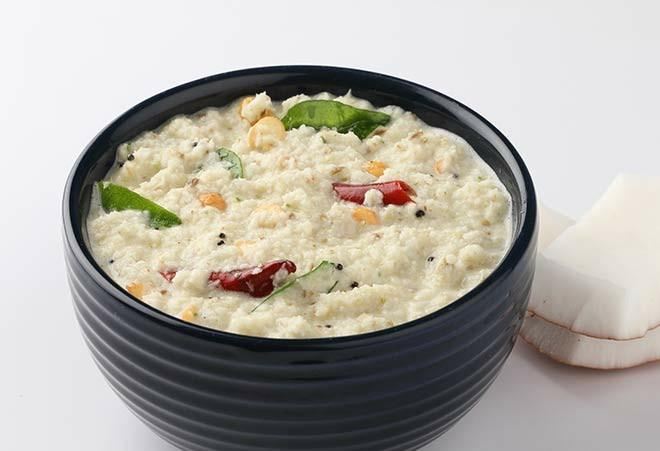CoconutChutney: (89, 88, 511, 339)
